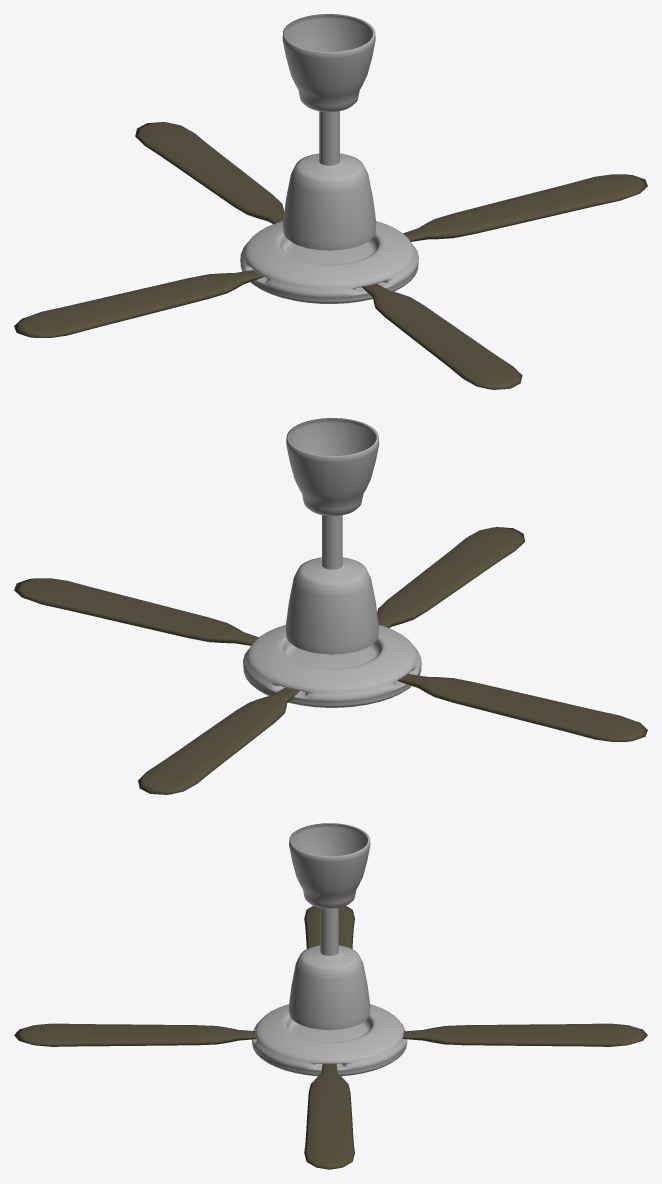
File: kipas.obj
3 renders of one model, top to bottom at view 1: azimuth 30°, elevation 25°; view 2: azimuth 150°, elevation 25°; view 3: azimuth 270°, elevation 25°, orthographic. The views are drawn at different scales.
Visible parts, largest first — view 1: polySurface51_Untitled.006, polySurface55_Untitled.008, polySurface53_Untitled.005, blade1_Untitled.001, blade_Untitled.002, blade3_Untitled, blade2_Untitled.004, polySurface54_Untitled.007; view 2: polySurface51_Untitled.006, polySurface55_Untitled.008, polySurface53_Untitled.005, blade1_Untitled.001, blade_Untitled.002, blade2_Untitled.004, blade3_Untitled, polySurface54_Untitled.007; view 3: polySurface51_Untitled.006, polySurface55_Untitled.008, polySurface53_Untitled.005, blade2_Untitled.004, blade3_Untitled, blade_Untitled.002, blade1_Untitled.001, polySurface54_Untitled.007.
Boxes of the visible parts, <box> form: polySurface51_Untitled.006: <box>240,221,418,303</box>; polySurface55_Untitled.008: <box>283,153,376,250</box>; polySurface53_Untitled.005: <box>282,14,375,111</box>; blade1_Untitled.001: <box>14,270,263,337</box>; blade_Untitled.002: <box>403,174,647,241</box>; blade3_Untitled: <box>362,283,522,389</box>; blade2_Untitled.004: <box>135,122,284,224</box>; polySurface54_Untitled.007: <box>319,111,339,165</box>; polySurface51_Untitled.006: <box>243,625,421,707</box>; polySurface55_Untitled.008: <box>285,557,378,654</box>; polySurface53_Untitled.005: <box>286,418,379,515</box>; blade1_Untitled.001: <box>398,674,647,741</box>; blade_Untitled.002: <box>14,578,258,645</box>; blade2_Untitled.004: <box>138,687,299,794</box>; blade3_Untitled: <box>377,527,524,627</box>; polySurface54_Untitled.007: <box>322,515,342,569</box>; polySurface51_Untitled.006: <box>251,1004,407,1076</box>; polySurface55_Untitled.008: <box>289,945,370,1029</box>; polySurface53_Untitled.005: <box>289,823,370,908</box>; blade2_Untitled.004: <box>402,1023,647,1046</box>; blade3_Untitled: <box>14,1023,256,1046</box>; blade_Untitled.002: <box>304,1064,354,1169</box>; blade1_Untitled.001: <box>304,906,354,948</box>; polySurface54_Untitled.007: <box>320,908,338,955</box>.
Bounding box in the file's own units: 1.34 × 0.5128 × 1.34.
